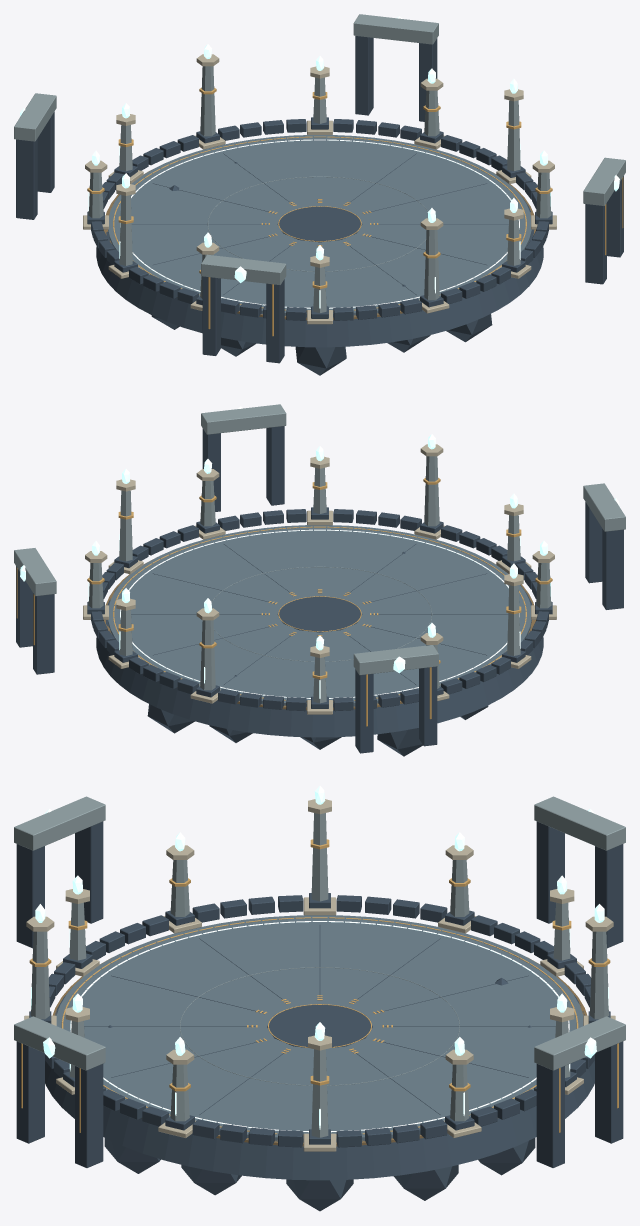
Rendered from TempleArena.fbx.
The picture shows the model from 3 angles, top to bottom: view 1: azimuth 30°, elevation 25°; view 2: azimuth 150°, elevation 25°; view 3: azimuth 270°, elevation 25°; orthographic projection. The views are drawn at different scales.
Visible parts, largest first — view 1: ArenaFloor, Foundation, CentralMedallion, Lintel, Lintel.002, ArchLeg.003, ArchLeg.006, ArchLeg.001, ArchLeg.004, ArchLeg.005, Lintel.001, Lintel.003 (+16 smaller); view 2: ArenaFloor, Foundation, CentralMedallion, Lintel.003, Lintel.001, ArchLeg.004, ArchLeg.001, ArchLeg.006, ArchLeg.003, ArchLeg.002, Lintel.002, Lintel (+16 smaller); view 3: ArenaFloor, Foundation, CentralMedallion, ArchLeg, ArchLeg.007, Lintel.001, Lintel.002, ArchLeg.001, ArchLeg.006, Lintel.003, Lintel, ArchLeg.005 (+18 smaller).
Part boxes in pixels (x1,y1,x2,y2): ArenaFloor: (108,135,531,316); Foundation: (96,195,543,347); CentralMedallion: (277,206,362,242); Lintel: (353,14,438,44); Lintel.002: (201,254,286,284); ArchLeg.003: (16,138,37,219); ArchLeg.006: (585,203,606,284); ArchLeg.001: (355,36,373,115); ArchLeg.004: (202,276,220,355); ArchLeg.005: (266,279,284,363); Lintel.001: (14,93,56,141); Lintel.003: (583,157,625,205); ArenaFloor: (108,525,531,706); Foundation: (96,585,543,737); CentralMedallion: (277,597,362,632); Lintel.003: (201,404,286,434); Lintel.001: (353,645,438,675); ArchLeg.004: (602,529,623,609); ArchLeg.001: (33,593,54,674); ArchLeg.006: (266,426,284,505); ArchLeg.003: (419,666,437,746); ArchLeg.002: (355,669,373,753); Lintel.002: (583,483,625,531); Lintel: (14,548,56,596); ArenaFloor: (56,915,583,1141); Foundation: (45,987,594,1180); CentralMedallion: (267,1004,372,1047); ArchLeg: (536,1064,564,1167); ArchLeg.007: (75,1064,103,1167); Lintel.001: (534,796,625,850); Lintel.002: (14,796,105,850); ArchLeg.001: (595,1041,623,1143); ArchLeg.006: (16,1041,44,1143); Lintel.003: (14,1016,105,1070); Lintel: (534,1016,625,1070); ArchLeg.005: (16,844,44,948).
Bounding box in the file's own units: 4159 × 1706 × 4159.
